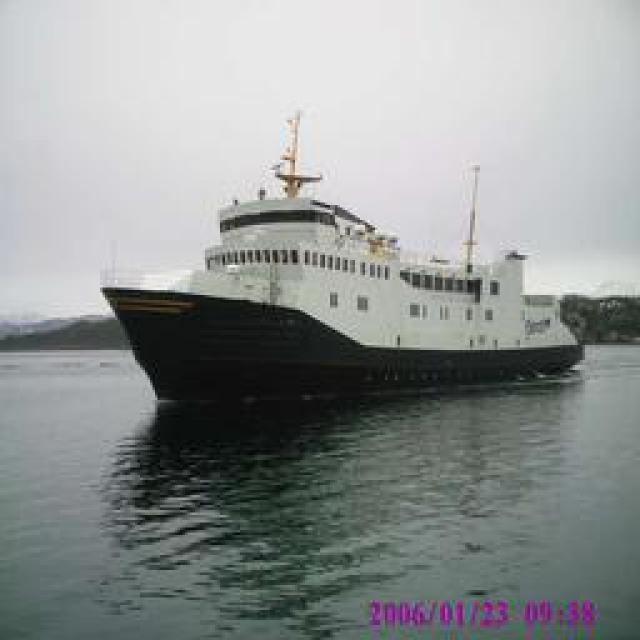Ship: (101, 111, 589, 391)
